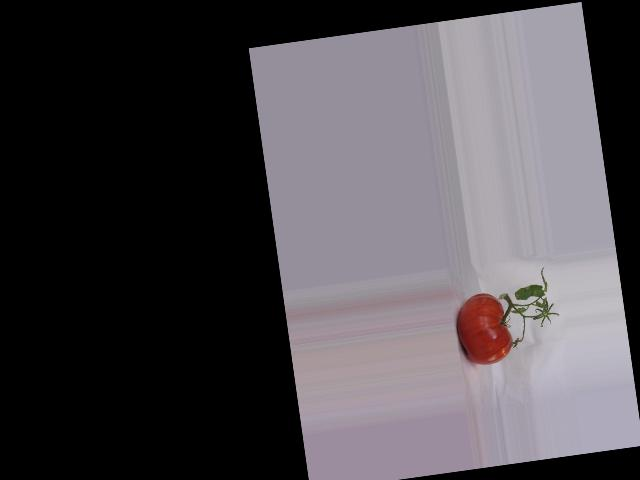tomato: (452, 290, 515, 368)
